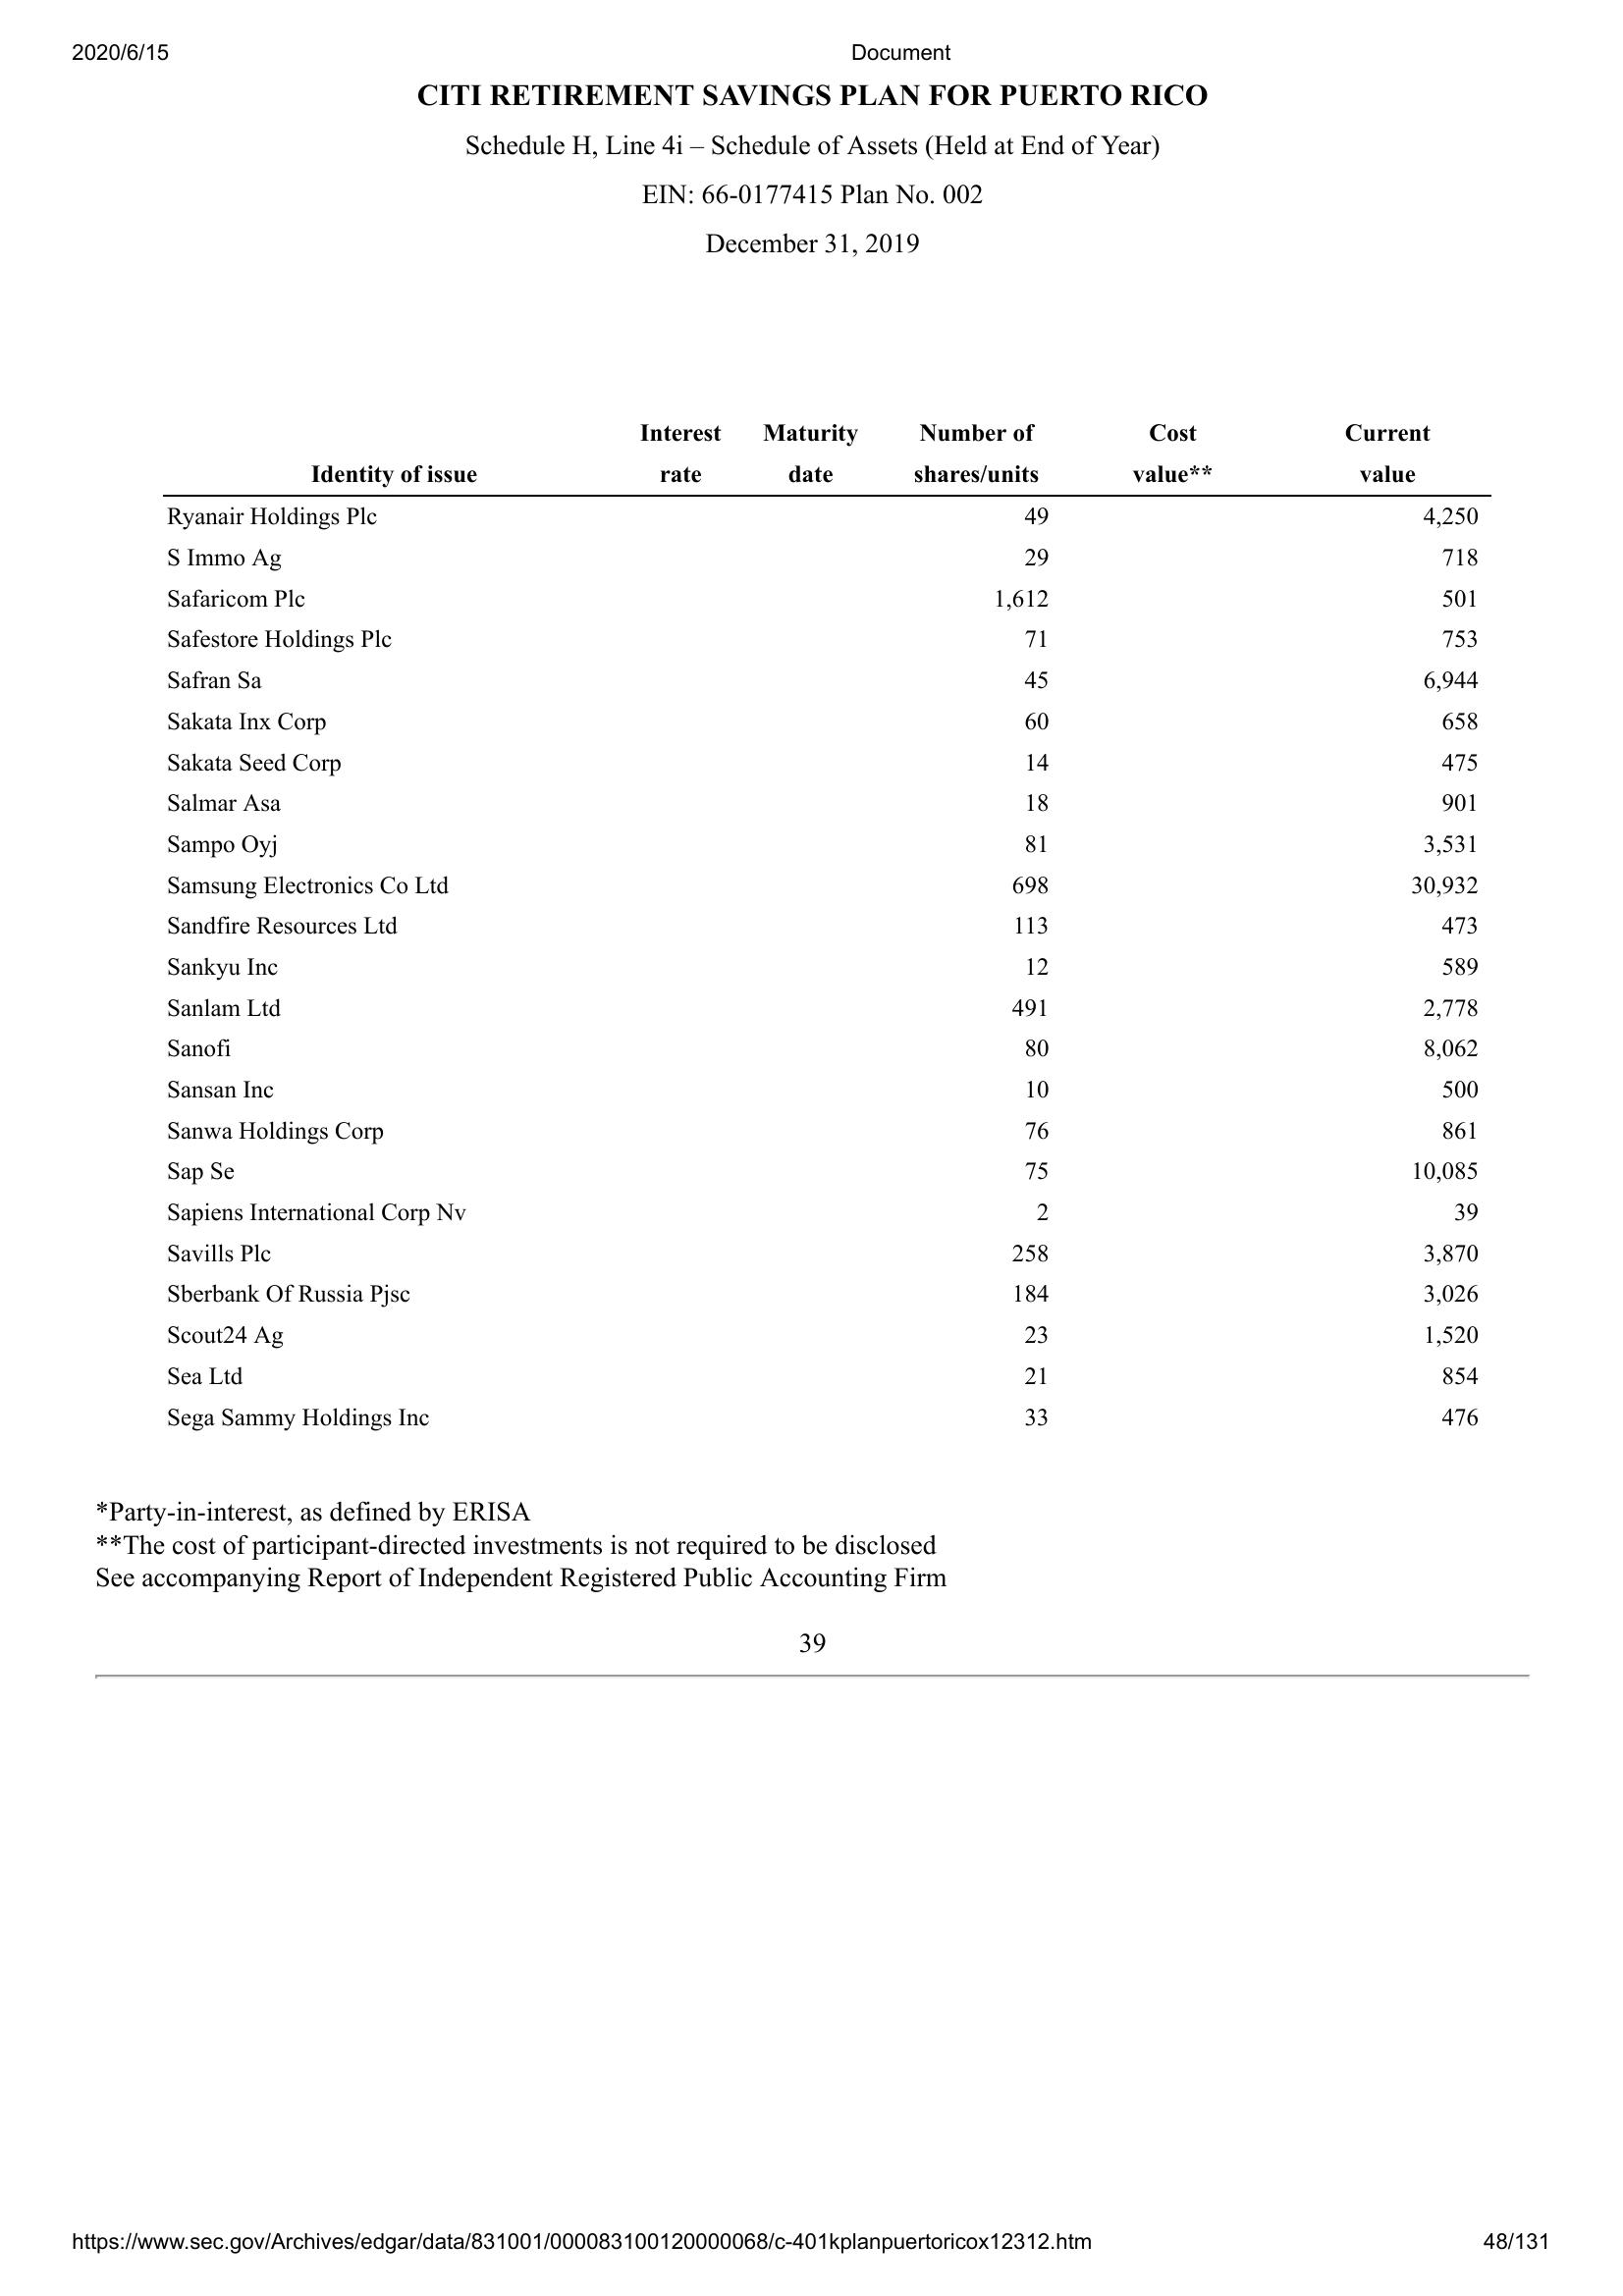table: (151, 416, 1486, 1441)
